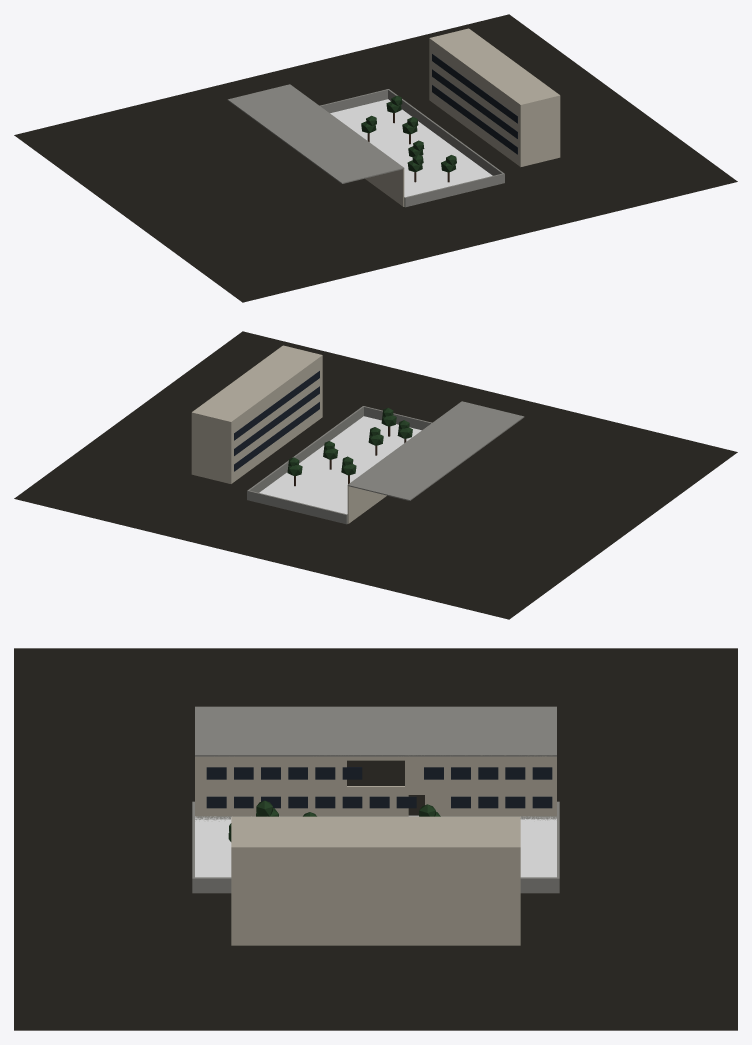
The model's file is courtyard.glb.
3 renders of one model, top to bottom at view 1: azimuth 30°, elevation 25°; view 2: azimuth 150°, elevation 25°; view 3: azimuth 270°, elevation 25°, orthographic. The views are drawn at different scales.
Visible parts, largest first — view 1: Ground, Walls, SchoolFacade, Walk_Courtyard, Trees; view 2: Ground, Walls, SchoolFacade, Walk_Courtyard, Trees; view 3: Ground, Walls, SchoolFacade, Walk_Courtyard.
Boxes of the visible parts, bbox=[...] form: Ground: bbox=[14, 14, 737, 302]; Walls: bbox=[320, 28, 560, 207]; SchoolFacade: bbox=[227, 84, 404, 206]; Walk_Courtyard: bbox=[330, 99, 492, 197]; Trees: bbox=[361, 95, 456, 182]; Ground: bbox=[14, 331, 737, 619]; Walls: bbox=[191, 345, 431, 524]; SchoolFacade: bbox=[347, 401, 524, 523]; Walk_Courtyard: bbox=[259, 416, 421, 514]; Trees: bbox=[287, 408, 412, 486]; Ground: bbox=[14, 648, 737, 1030]; Walls: bbox=[192, 801, 559, 945]; SchoolFacade: bbox=[195, 706, 556, 816]; Walk_Courtyard: bbox=[195, 815, 556, 877].
Size of the model in its own units: 100 by 12.12 by 80.
